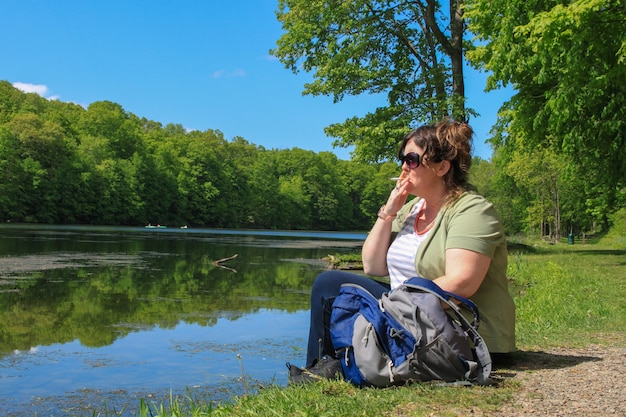cigarette: (389, 176, 408, 181)
